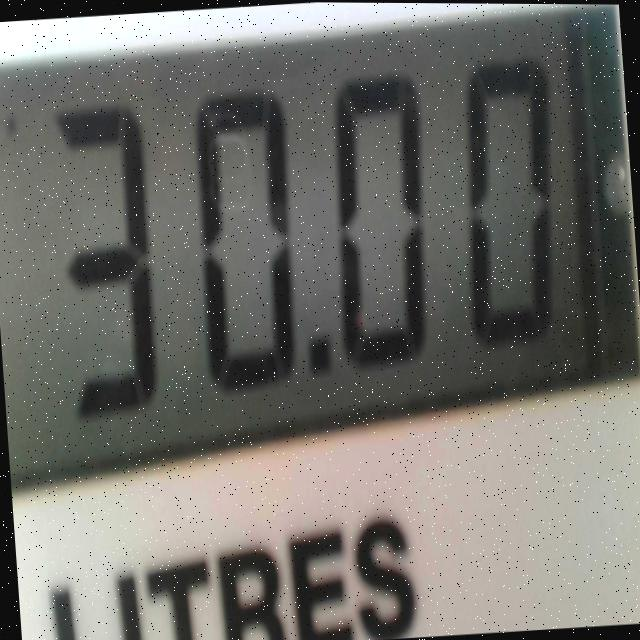.: (292, 316, 346, 407)
0: (178, 71, 304, 413), (444, 33, 576, 354), (318, 57, 446, 364)
3: (46, 83, 172, 427)
